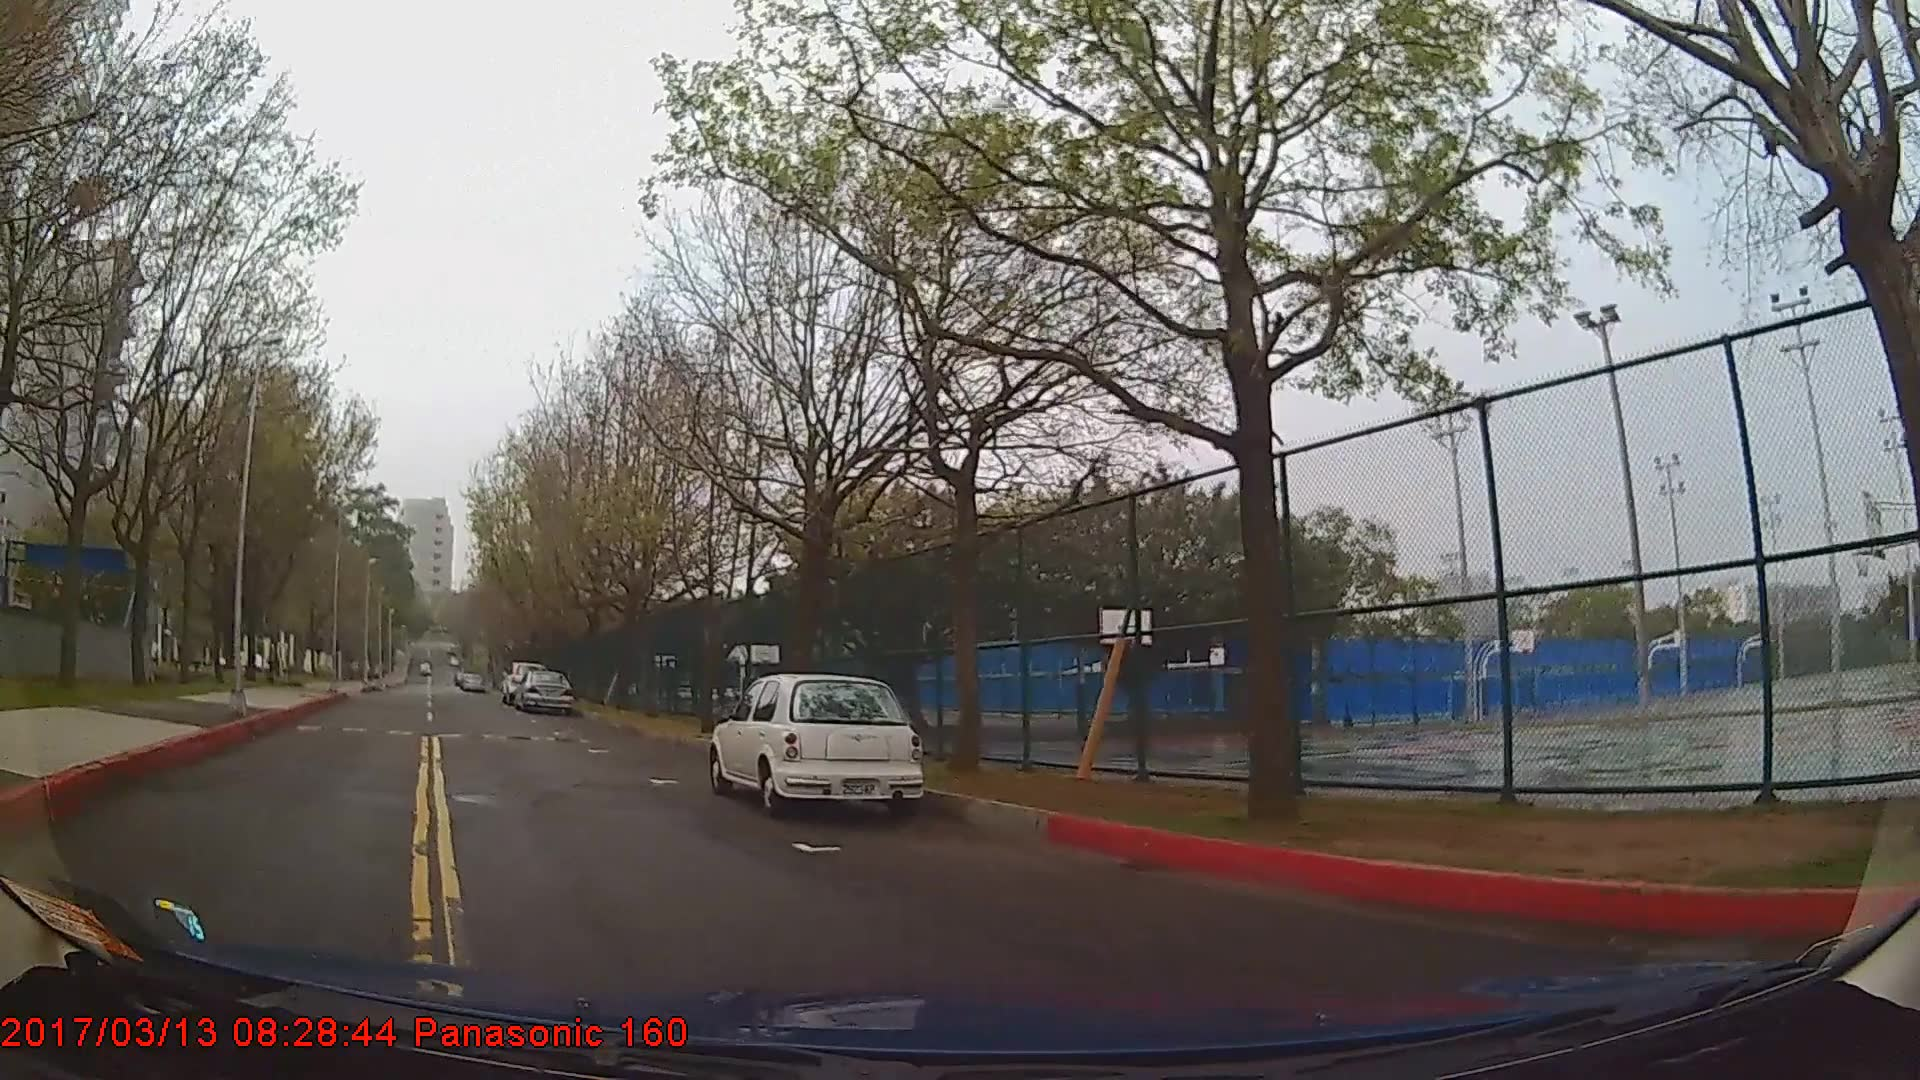vehicle: (705, 671, 924, 814), (512, 666, 571, 709)
